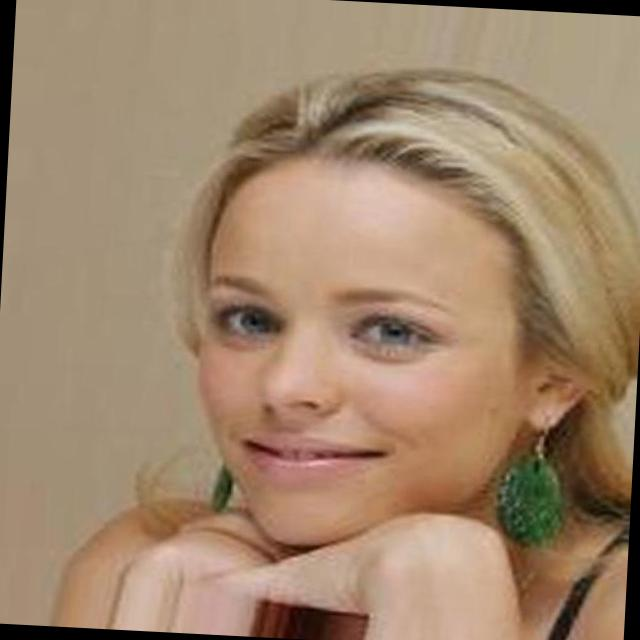bareface: (201, 238, 495, 511)
